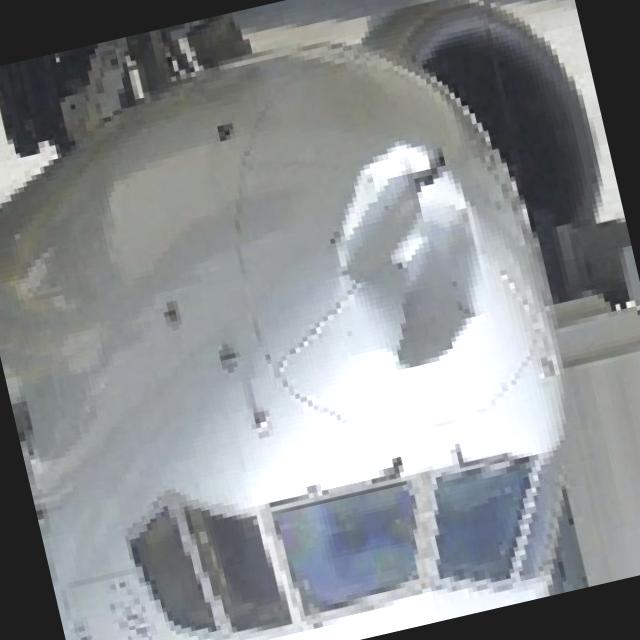dent: (301, 115, 516, 388)
